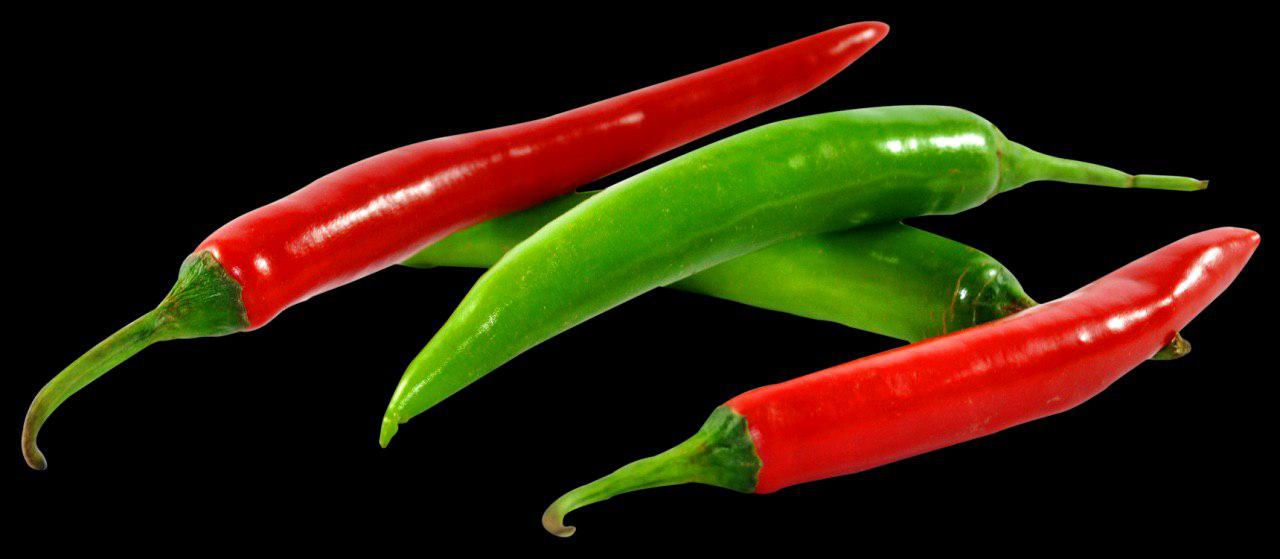lada hijau: (357, 84, 1034, 449)
lada merah: (160, 17, 894, 348), (721, 215, 1270, 504)
